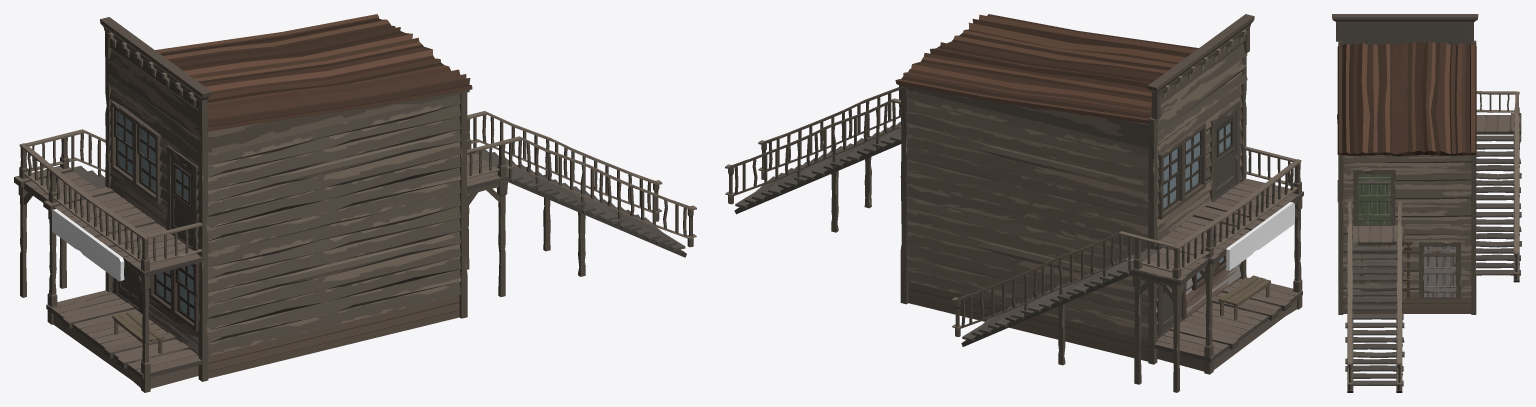
File: Trading_post.glb
The picture shows the model from 3 angles, left to right: view 1: azimuth 30°, elevation 25°; view 2: azimuth 150°, elevation 25°; view 3: azimuth 270°, elevation 25°; orthographic projection. The views are drawn at different scales.
Parts seen in each view (by area): view 1: Trading_post, SM_Bld_Single_Roof_02, SM_Bld_Double_Balcony_Stairs_01, SM_Bld_Stairs_01, SM_Bld_Single_Facade_04, SM_Bld_Single_Deck_04, SM_Bld_Single_Front_01, SM_Bld_Single_Front_02, SM_Bld_Sign_16, SM_Building_Single_FrontDoor_01, SM_Building_Single_Front_Window_01, SM_Prop_JailBed_01 (+2 smaller); view 2: Trading_post, SM_Bld_Single_Roof_02, SM_Bld_Double_Balcony_Stairs_01, SM_Bld_Stairs_01, SM_Bld_Single_Facade_04, SM_Bld_Single_Front_01, SM_Bld_Single_Deck_04, SM_Bld_Sign_16, SM_Bld_Single_Front_02, SM_Building_Single_FrontDoor_01, SM_Building_Single_Front_Window_01, SM_Prop_JailBed_01 (+1 smaller); view 3: SM_Bld_Single_Roof_02, Trading_post, SM_Bld_Stairs_01, SM_Bld_Double_Balcony_Stairs_01, SM_Bld_Single_Facade_04, SM_Bld_Double_BackDoor_04, SM_Bld_Double_BackDoor_03, SM_Gen_Prop_Shelf_02__2_.
Part boxes in pixels (bbox=[...]): Trading_post: bbox=[105, 57, 467, 381]; SM_Bld_Single_Roof_02: bbox=[155, 14, 472, 155]; SM_Bld_Double_Balcony_Stairs_01: bbox=[14, 129, 202, 392]; SM_Bld_Stairs_01: bbox=[466, 111, 696, 296]; SM_Bld_Single_Facade_04: bbox=[100, 17, 211, 153]; SM_Bld_Single_Deck_04: bbox=[46, 290, 201, 388]; SM_Bld_Single_Front_01: bbox=[109, 88, 199, 252]; SM_Bld_Single_Front_02: bbox=[111, 263, 199, 352]; SM_Bld_Sign_16: bbox=[52, 209, 124, 281]; SM_Building_Single_FrontDoor_01: bbox=[171, 155, 193, 247]; SM_Building_Single_Front_Window_01: bbox=[117, 111, 155, 191]; SM_Prop_JailBed_01: bbox=[112, 311, 164, 353]; Trading_post: bbox=[900, 56, 1246, 364]; SM_Bld_Single_Roof_02: bbox=[895, 14, 1198, 148]; SM_Bld_Double_Balcony_Stairs_01: bbox=[952, 146, 1303, 392]; SM_Bld_Stairs_01: bbox=[725, 87, 901, 232]; SM_Bld_Single_Facade_04: bbox=[1147, 14, 1254, 145]; SM_Bld_Single_Front_01: bbox=[1156, 85, 1242, 240]; SM_Bld_Single_Deck_04: bbox=[1154, 277, 1302, 371]; SM_Bld_Sign_16: bbox=[1226, 202, 1294, 270]; SM_Bld_Single_Front_02: bbox=[1156, 255, 1241, 338]; SM_Building_Single_FrontDoor_01: bbox=[1214, 110, 1236, 197]; SM_Building_Single_Front_Window_01: bbox=[1163, 132, 1199, 207]; SM_Prop_JailBed_01: bbox=[1218, 275, 1270, 319]; SM_Bld_Single_Roof_02: bbox=[1337, 40, 1476, 156]; Trading_post: bbox=[1338, 40, 1476, 314]; SM_Bld_Stairs_01: bbox=[1345, 201, 1404, 392]; SM_Bld_Double_Balcony_Stairs_01: bbox=[1337, 91, 1521, 282]; SM_Bld_Single_Facade_04: bbox=[1332, 14, 1478, 45]; SM_Bld_Double_BackDoor_04: bbox=[1358, 174, 1390, 224]; SM_Bld_Double_BackDoor_03: bbox=[1424, 246, 1456, 297]; SM_Gen_Prop_Shelf_02__2_: bbox=[1360, 241, 1412, 298].
Bounding box in the file's own units: 17.53 × 8.63 × 7.14.
Materials: 8 (6 with a texture image).
